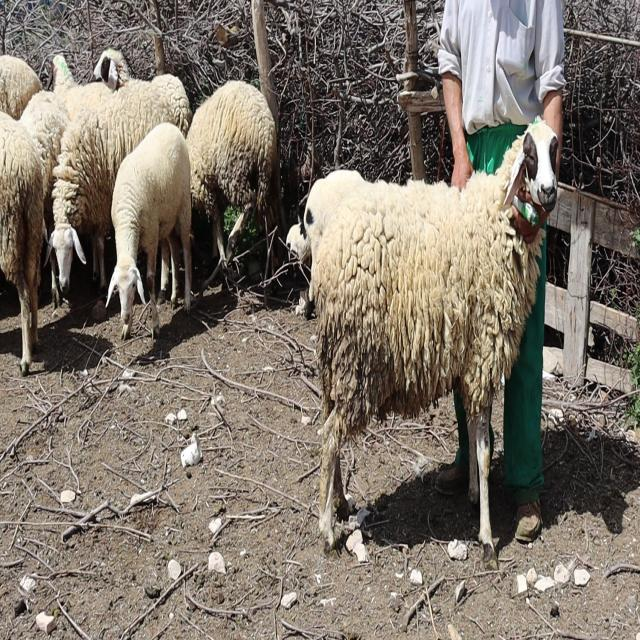Score_3: (304, 121, 557, 568)
